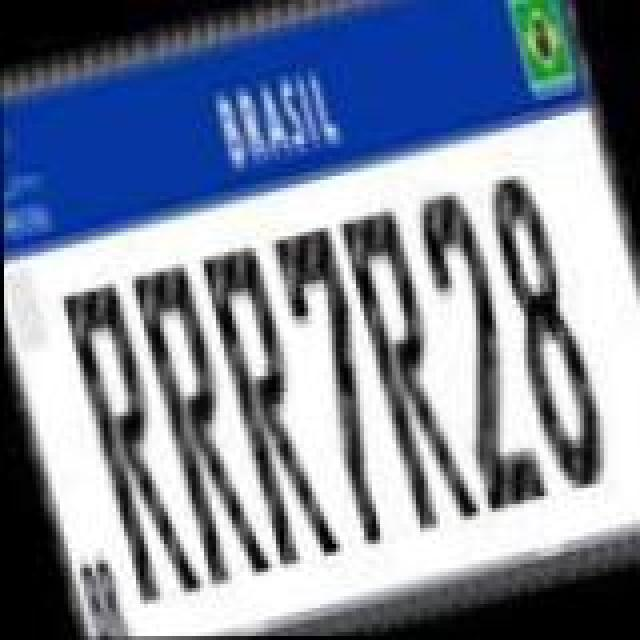2: (404, 182, 548, 522)
7: (272, 220, 412, 556)
8: (472, 162, 616, 498)
R: (60, 272, 204, 612), (126, 254, 270, 594), (336, 200, 480, 540), (198, 236, 342, 572)
